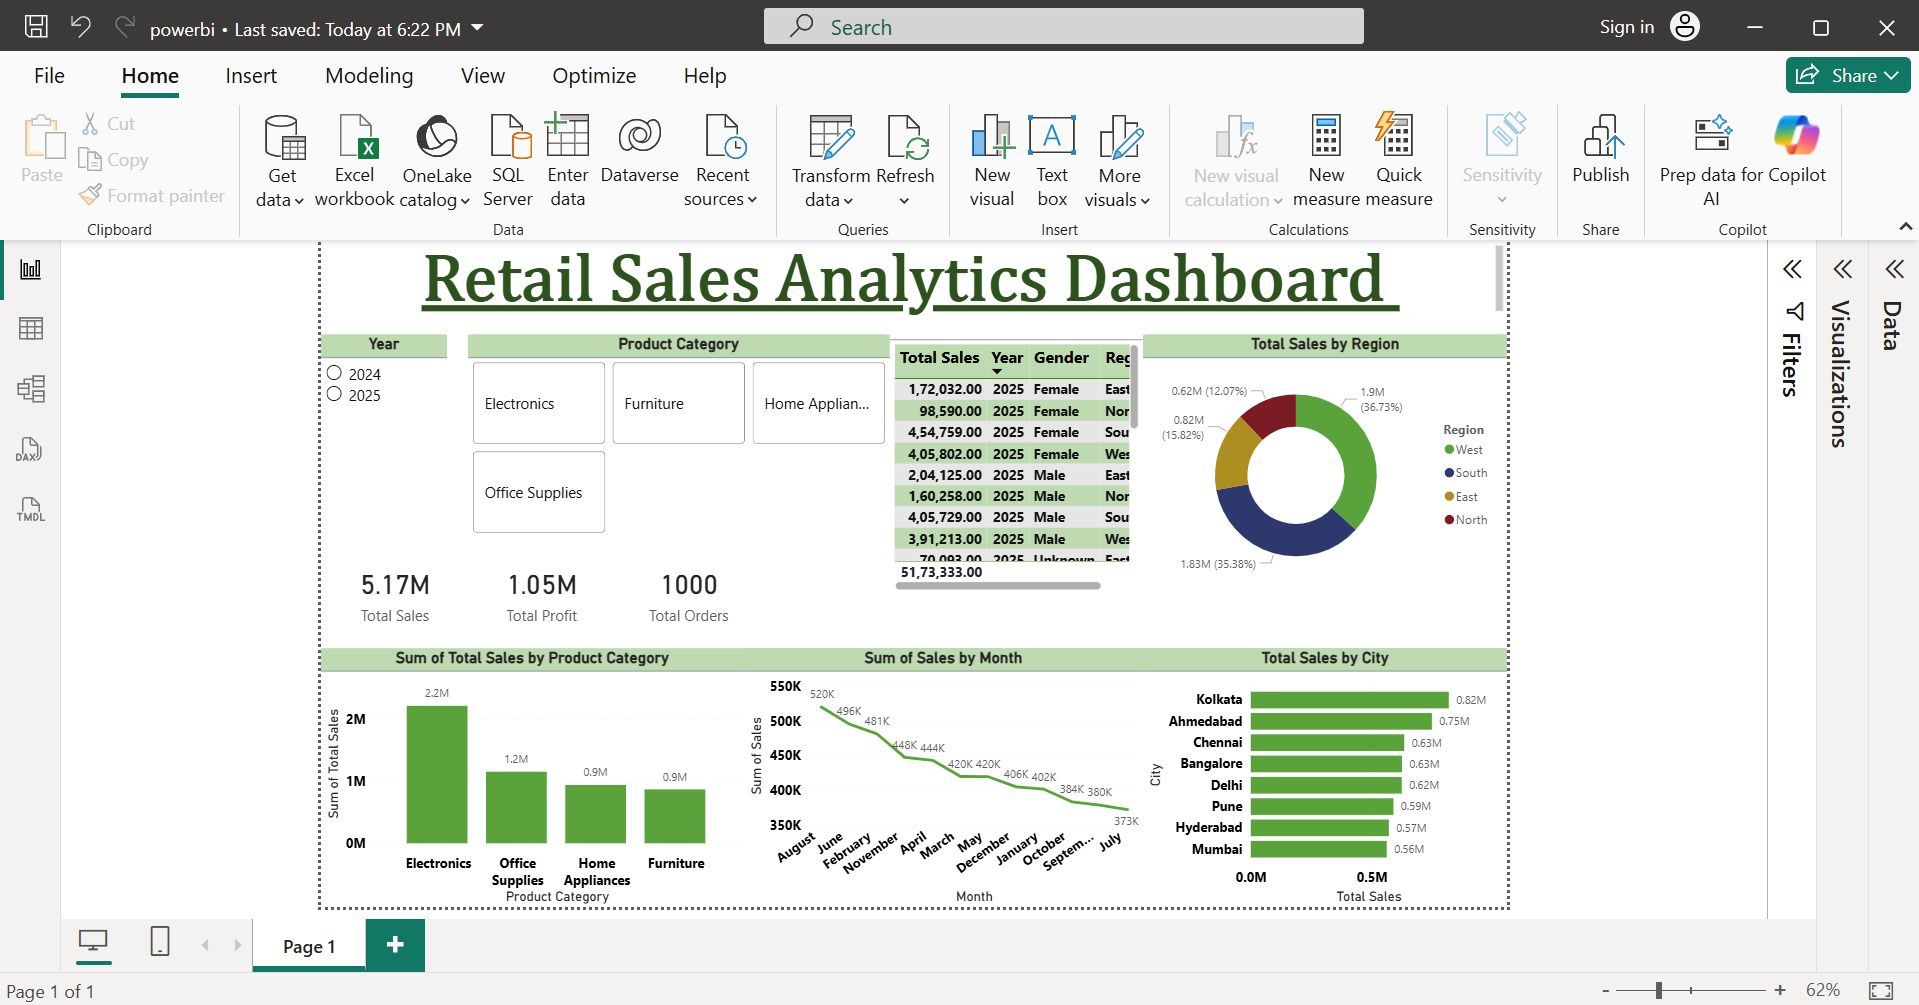

What the dashboard file says about the page in this screenshot:
{"tool":"powerbi","page":{"name":"Page 1","canvas":[1280,720],"ordinal":0},"visuals":[{"type":"clusteredColumnChart","fields":{"Category":["Sales by Product Category.Product Category"],"Y":["Sum(Sales by Product Category.Total Sales)"]},"box":[0,440.4,456.6,280.1],"z":0},{"type":"card","fields":{"Values":["Sales.Total Sales"]},"box":[0,320.6,158.7,119.8],"z":1000},{"type":"card","fields":{"Values":["Sales.Total Profit"]},"box":[158.7,320.6,158.7,119.8],"z":2000},{"type":"card","fields":{"Values":["Sales.Total Orders"]},"box":[317.4,320.6,158.7,119.8],"z":3000},{"type":"lineChart","fields":{"Category":["Calendar.Month"],"Y":["Sum(Sales.Sales)"]},"box":[456.6,440.4,430.7,280.1],"z":4000},{"type":"clusteredBarChart","fields":{"Category":["Regions.City"],"Y":["Sales.Total Sales"]},"box":[887.3,440.4,393.5,280.1],"z":5000},{"type":"tableEx","fields":{"Values":["Sales.Total Sales","Calendar.Year","Customers.Gender","Regions.Region"]},"box":[613.7,102,273.6,280.1],"z":6000},{"type":"listSlicer","fields":{"Values":["Calendar.Year"]},"box":[0,102,136,218.6],"z":7000},{"type":"advancedSlicerVisual","fields":{"Values":["Products.Product Category"]},"box":[158.7,102,455,218.6],"z":8000},{"type":"donutChart","fields":{"Y":["Sales.Total Sales"],"Category":["Regions.Region"]},"box":[887.3,102,393.5,278.5],"z":9000},{"type":"textbox","box":[0,0,1280.8,87.4],"z":9001}]}

Visuals, with their boxes on the page's 1280x720 design canvas (x1, y1, x2, y2). These are canvas units, not pixel positions in the 1919x1005 screenshot, which may show the page scaled, cropped or inside an application window:
clusteredColumnChart - Sales by Product Category.Product Category x Sum(Sales by Product Category.Total Sales): rect(0, 440, 457, 720)
card - Sales.Total Sales: rect(0, 321, 159, 440)
card - Sales.Total Profit: rect(159, 321, 317, 440)
card - Sales.Total Orders: rect(317, 321, 476, 440)
lineChart - Calendar.Month x Sum(Sales.Sales): rect(457, 440, 887, 720)
clusteredBarChart - Regions.City x Sales.Total Sales: rect(887, 440, 1281, 720)
tableEx - Sales.Total Sales x Calendar.Year: rect(614, 102, 887, 382)
listSlicer - Calendar.Year: rect(0, 102, 136, 321)
advancedSlicerVisual - Products.Product Category: rect(159, 102, 614, 321)
donutChart - Sales.Total Sales x Regions.Region: rect(887, 102, 1281, 380)
textbox: rect(0, 0, 1281, 87)
